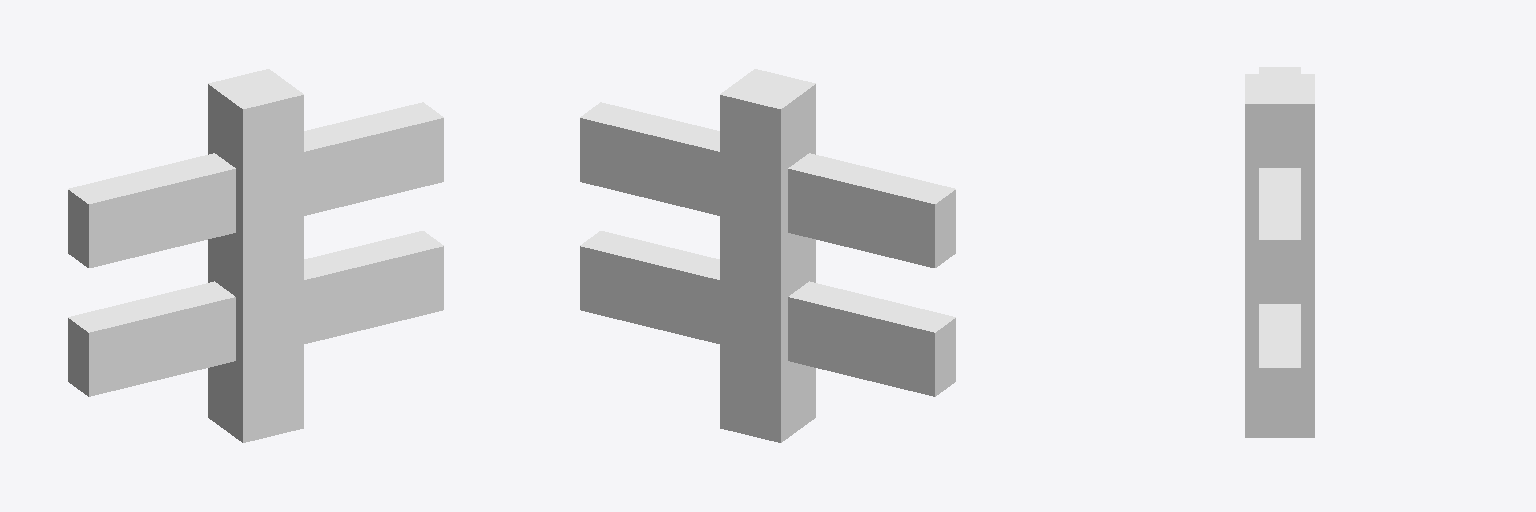
Rendered from Cerca.obj.
3 renders of one model, left to right at view 1: azimuth 30°, elevation 25°; view 2: azimuth 150°, elevation 25°; view 3: azimuth 270°, elevation 25°, orthographic.
Visible parts, largest first — view 1: object 1; view 2: object 1; view 3: object 1.
Boxes of the visible parts, x1,y1,x2,y2 form: object 1: [68, 69, 443, 442]; object 1: [580, 69, 955, 442]; object 1: [1245, 67, 1314, 437].
Size of the model in its own units: 2.9 by 2.6 by 0.5.